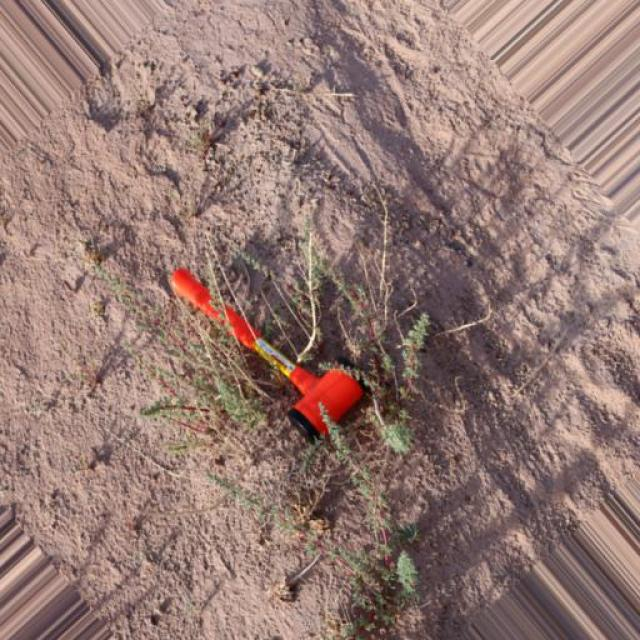mallet: (168, 265, 364, 443)
